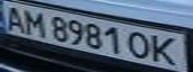1: (100, 25, 124, 55)
8: (81, 20, 106, 51), (45, 14, 69, 43)
9: (63, 17, 87, 46)
A: (0, 2, 30, 33)
K: (148, 34, 184, 68)
M: (21, 8, 48, 37)
O: (124, 29, 154, 61)
